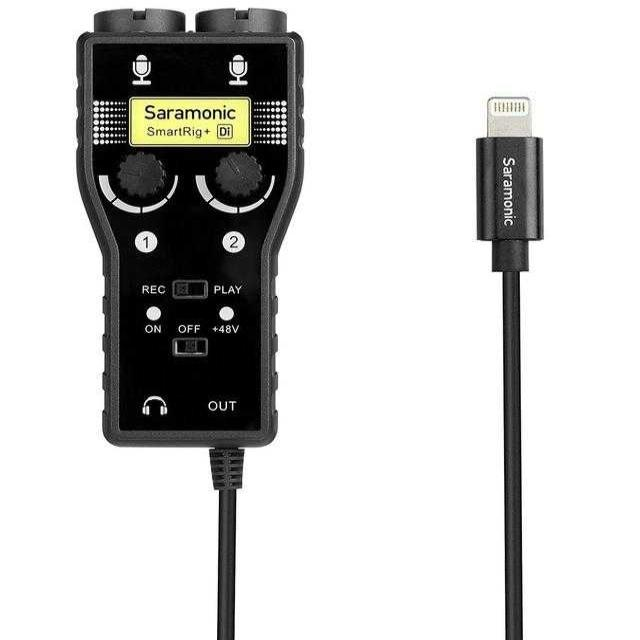microphone: (72, 0, 308, 459)
